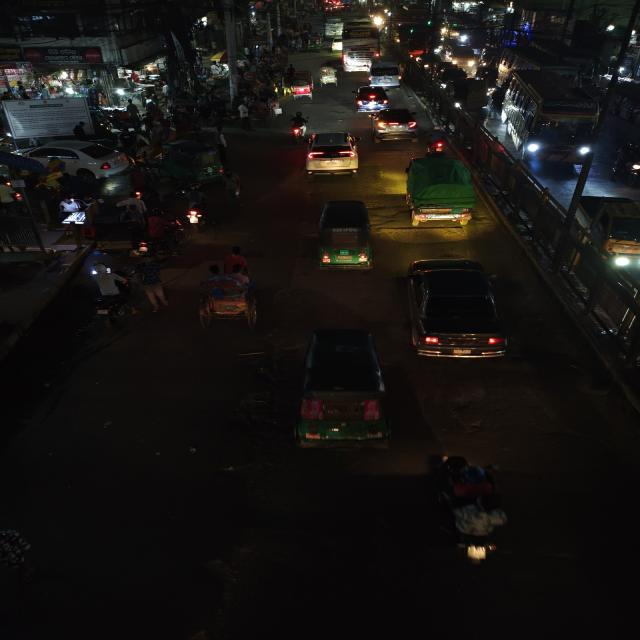bus: (505, 66, 599, 170), (337, 20, 381, 71)
car: (398, 253, 522, 364), (10, 134, 136, 182), (306, 130, 357, 178), (371, 108, 421, 141), (350, 88, 388, 112), (368, 63, 401, 88)
cng: (288, 324, 401, 457), (312, 195, 372, 273), (147, 133, 228, 184)
motorcycle: (425, 448, 508, 574), (135, 214, 189, 267), (86, 269, 134, 327), (181, 186, 217, 231), (287, 113, 309, 140), (427, 128, 445, 152)
pedestrian: (238, 102, 251, 130)
pickup_van: (558, 188, 640, 270), (394, 153, 478, 227)
rickshaw: (197, 247, 259, 327), (287, 70, 316, 101), (317, 61, 340, 85)
